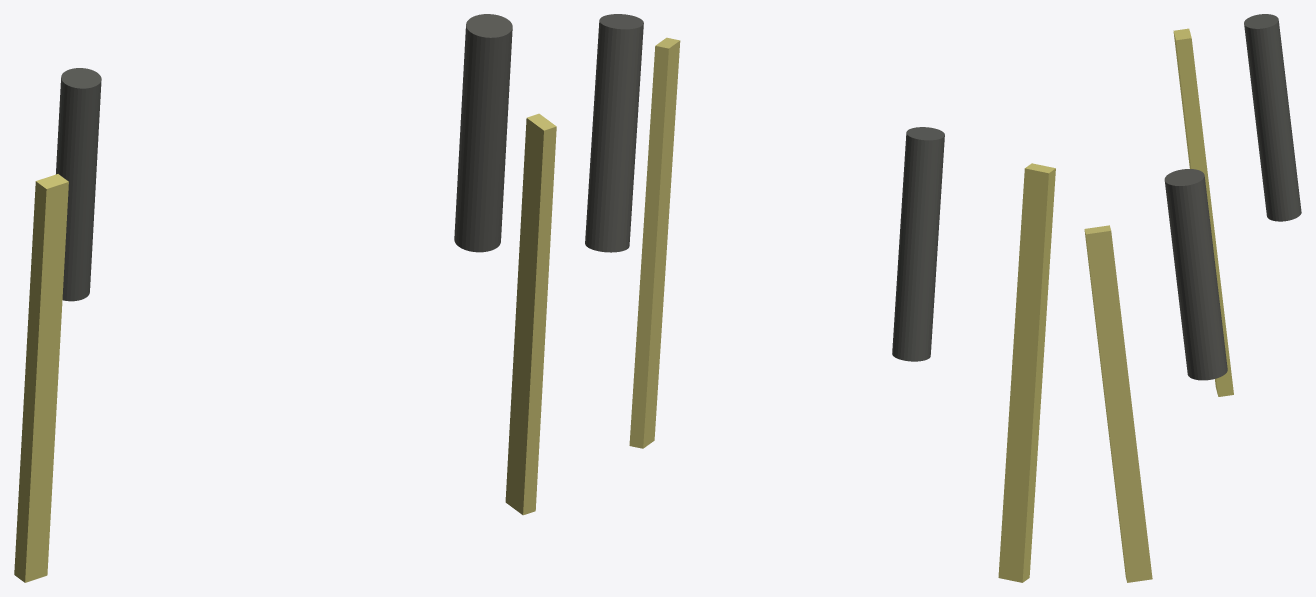
Rendered from posts-candidate.glb.
3 renders of one model, left to right at view 1: azimuth 30°, elevation 25°; view 2: azimuth 150°, elevation 25°; view 3: azimuth 270°, elevation 25°, orthographic. The views are drawn at different scales.
Visible parts, largest first — view 1: box-2, box-1, cylinder-2, cylinder-1; view 2: box-2, cylinder-2, box-1, cylinder-1; view 3: box-1, cylinder-2, cylinder-1, box-2.
Part boxes in pixels (x1,y1,x2,y2): box-2: (14, 174, 68, 582); box-1: (505, 113, 556, 515); cylinder-2: (454, 14, 512, 252); cylinder-1: (56, 68, 101, 301); box-2: (998, 163, 1055, 582); cylinder-2: (585, 14, 643, 252); box-1: (629, 37, 680, 448); cylinder-1: (892, 127, 944, 361); box-1: (1084, 225, 1152, 582); cylinder-2: (1164, 169, 1227, 380); cylinder-1: (1244, 14, 1301, 221); box-2: (1173, 28, 1233, 396).
Size of the model in its own units: 3.22 by 3.06 by 1.48.
